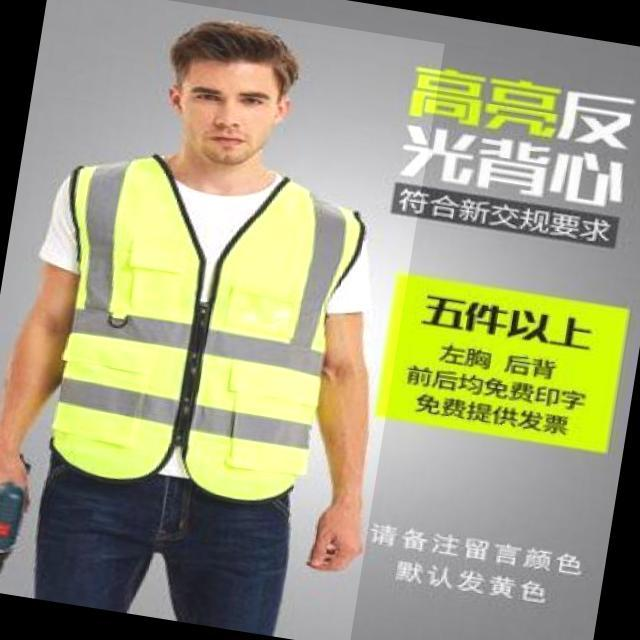Person: (7, 9, 388, 636)
Safety Vest: (9, 130, 373, 517)
bare-arms: (309, 494, 367, 579), (3, 448, 34, 552)
no-helmet: (170, 25, 298, 70)
